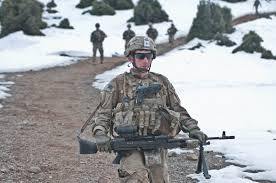gun: (78, 124, 236, 177)
